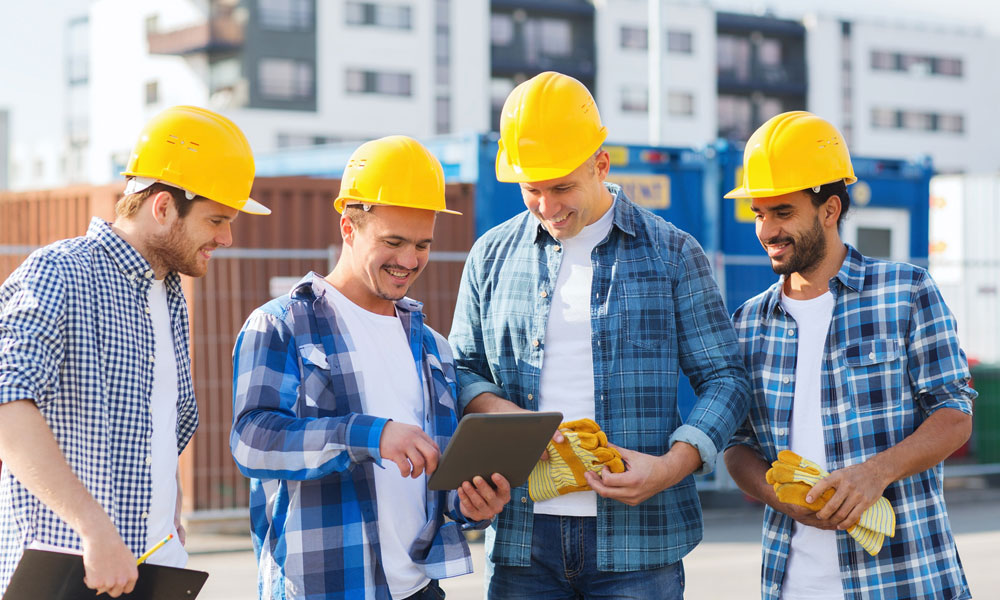Safety Helmet: (97, 81, 271, 299), (711, 94, 869, 299), (479, 54, 636, 246), (319, 119, 466, 321)
